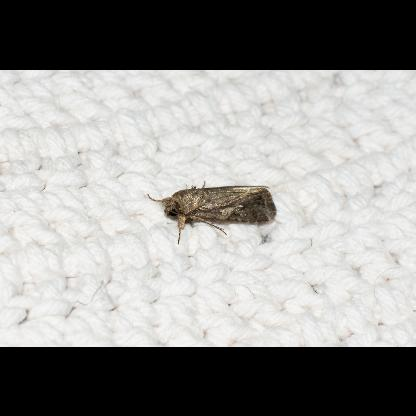Fall Armyworm Moth: (145, 177, 279, 245)
